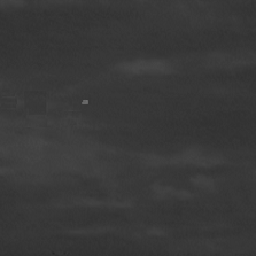Target: (81, 99, 89, 105)
